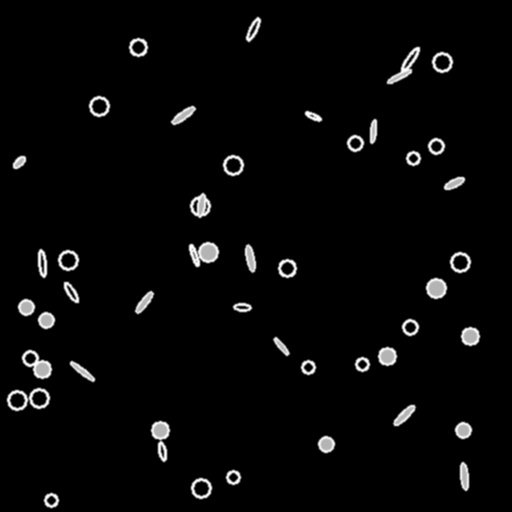pseudomonas: (69, 360, 95, 382), (399, 46, 421, 72), (170, 105, 196, 125), (393, 404, 415, 426), (386, 67, 412, 85), (134, 291, 154, 313), (245, 16, 261, 42), (62, 281, 80, 303), (272, 336, 290, 356), (244, 244, 256, 272), (444, 176, 464, 190), (188, 244, 200, 266), (11, 154, 27, 170), (196, 194, 206, 216), (304, 110, 322, 122), (38, 250, 46, 276), (460, 463, 468, 489), (157, 441, 167, 461), (369, 120, 377, 142), (233, 303, 251, 311)
synechocystis: (451, 253, 469, 271), (427, 279, 445, 297), (433, 53, 451, 71), (30, 389, 48, 407), (192, 479, 210, 497), (224, 156, 242, 174), (59, 251, 77, 269), (191, 197, 209, 215), (90, 97, 108, 115), (8, 391, 26, 409), (199, 243, 217, 261), (462, 328, 478, 344), (130, 39, 146, 55), (379, 348, 395, 364), (34, 361, 50, 377), (152, 422, 168, 438), (279, 260, 295, 276), (429, 139, 443, 153), (319, 437, 333, 451), (23, 351, 37, 365), (19, 300, 33, 314), (456, 423, 470, 437), (403, 320, 417, 334), (348, 136, 362, 150), (39, 313, 53, 327), (45, 494, 57, 506), (407, 152, 419, 164), (356, 358, 368, 370), (302, 361, 314, 373), (227, 471, 239, 483)
